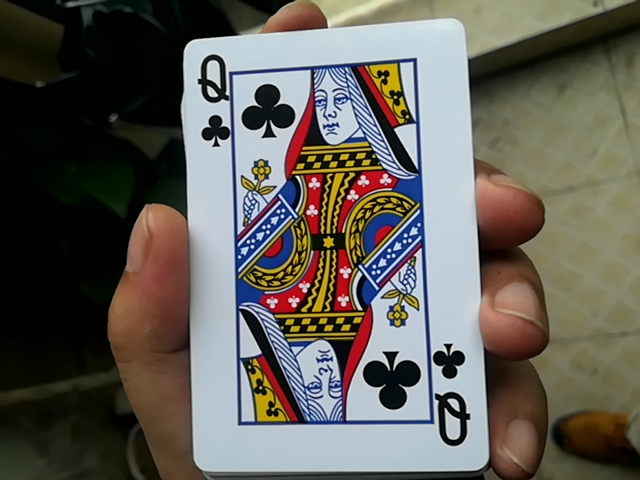mh q: (169, 18, 478, 476)
